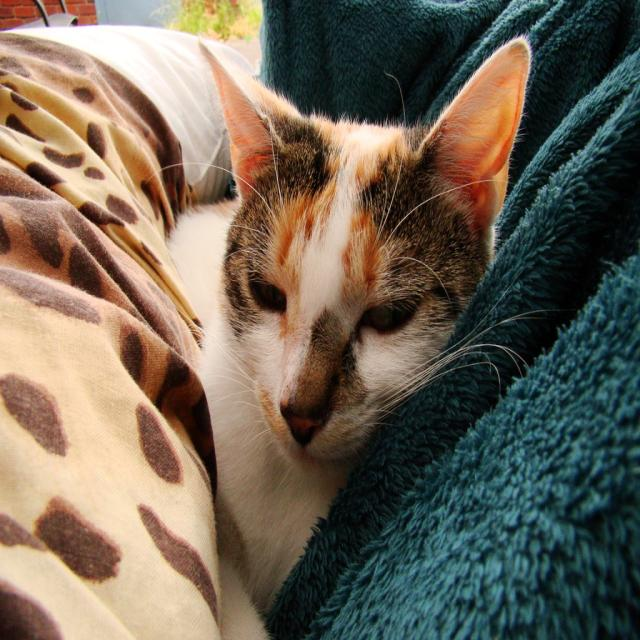Cat: (138, 29, 548, 615)
